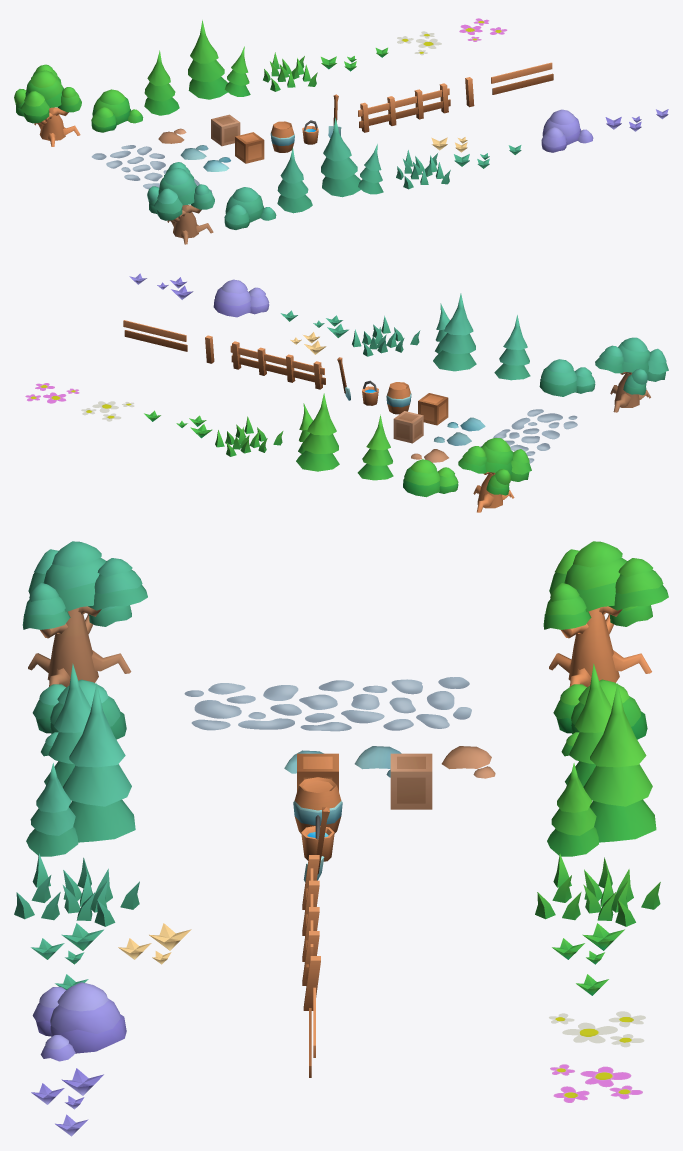
The model's file is env_Environment_stuff_props_prefab_v02.fbx.
3 renders of one model, top to bottom at view 1: azimuth 30°, elevation 25°; view 2: azimuth 150°, elevation 25°; view 3: azimuth 270°, elevation 25°, orthographic. The views are drawn at different scales.
Parts seen in each view (by area): view 1: Forrest_Tree _x1.001, Forrest_Tree _x1, Forrest_Christmas_tree_x2, Forrest_Christmas_tree_x2.001, fence, Bush_x1.002, Bush_x1, Bush_x1.001, Forrest_Christmas_tree_x1.001, Forrest_Christmas_tree_x1, Stones_floor_plane, grass_bush_x1 (+7 smaller); view 2: Forrest_Tree _x1, Forrest_Tree _x1.001, Forrest_Christmas_tree_x2.001, Forrest_Christmas_tree_x2, fence, Bush_x1.001, Bush_x1.002, Bush_x1, Stones_floor_plane, Forrest_Christmas_tree_x1, Forrest_Christmas_tree_x1.001, grass_bush_x1 (+7 smaller); view 3: Forrest_Tree _x1.001, Forrest_Tree _x1, Forrest_Christmas_tree_x2, Forrest_Christmas_tree_x2.001, Stones_floor_plane, Bush_x1.002, grass_bush_x1.001, grass_bush_x1, crate_x1.001, Bush_x1, Bush_x1.001, Forrest_Christmas_tree_x1.001 (+12 smaller).
Part boxes in pixels (bbox=[...]): Forrest_Tree _x1.001: bbox=[147, 162, 214, 244]; Forrest_Tree _x1: bbox=[14, 64, 81, 146]; Forrest_Christmas_tree_x2: bbox=[188, 20, 250, 99]; Forrest_Christmas_tree_x2.001: bbox=[321, 118, 383, 197]; fence: bbox=[358, 83, 450, 132]; Bush_x1.002: bbox=[541, 109, 593, 152]; Bush_x1: bbox=[91, 89, 143, 132]; Bush_x1.001: bbox=[224, 187, 276, 229]; Forrest_Christmas_tree_x1.001: bbox=[277, 148, 312, 213]; Forrest_Christmas_tree_x1: bbox=[144, 50, 179, 115]; Stones_floor_plane: bbox=[91, 145, 211, 192]; grass_bush_x1: bbox=[263, 52, 317, 91]; Forrest_Tree _x1: bbox=[458, 438, 531, 512]; Forrest_Tree _x1.001: bbox=[595, 337, 668, 412]; Forrest_Christmas_tree_x2.001: bbox=[433, 293, 476, 371]; Forrest_Christmas_tree_x2: bbox=[296, 393, 339, 471]; fence: bbox=[230, 341, 325, 389]; Bush_x1.001: bbox=[539, 359, 595, 396]; Bush_x1.002: bbox=[213, 279, 269, 317]; Bush_x1: bbox=[403, 459, 458, 497]; Stones_floor_plane: bbox=[480, 409, 577, 463]; Forrest_Christmas_tree_x1: bbox=[357, 414, 393, 480]; Forrest_Christmas_tree_x1.001: bbox=[494, 315, 530, 380]; grass_bush_x1: bbox=[215, 416, 283, 456]; Forrest_Tree _x1.001: bbox=[22, 541, 147, 687]; Forrest_Tree _x1: bbox=[543, 541, 668, 687]; Forrest_Christmas_tree_x2: bbox=[547, 683, 656, 856]; Forrest_Christmas_tree_x2.001: bbox=[26, 683, 135, 856]; Stones_floor_plane: bbox=[184, 677, 471, 731]; Bush_x1.002: bbox=[32, 982, 126, 1061]; grass_bush_x1.001: bbox=[14, 853, 139, 926]; grass_bush_x1: bbox=[535, 853, 660, 926]; crate_x1.001: bbox=[390, 753, 432, 809]; Bush_x1: bbox=[553, 679, 647, 756]; Bush_x1.001: bbox=[32, 679, 126, 756]; Forrest_Christmas_tree_x1.001: bbox=[44, 663, 91, 786].
Size of the model in its own units: 4362 by 630 by 2441.
